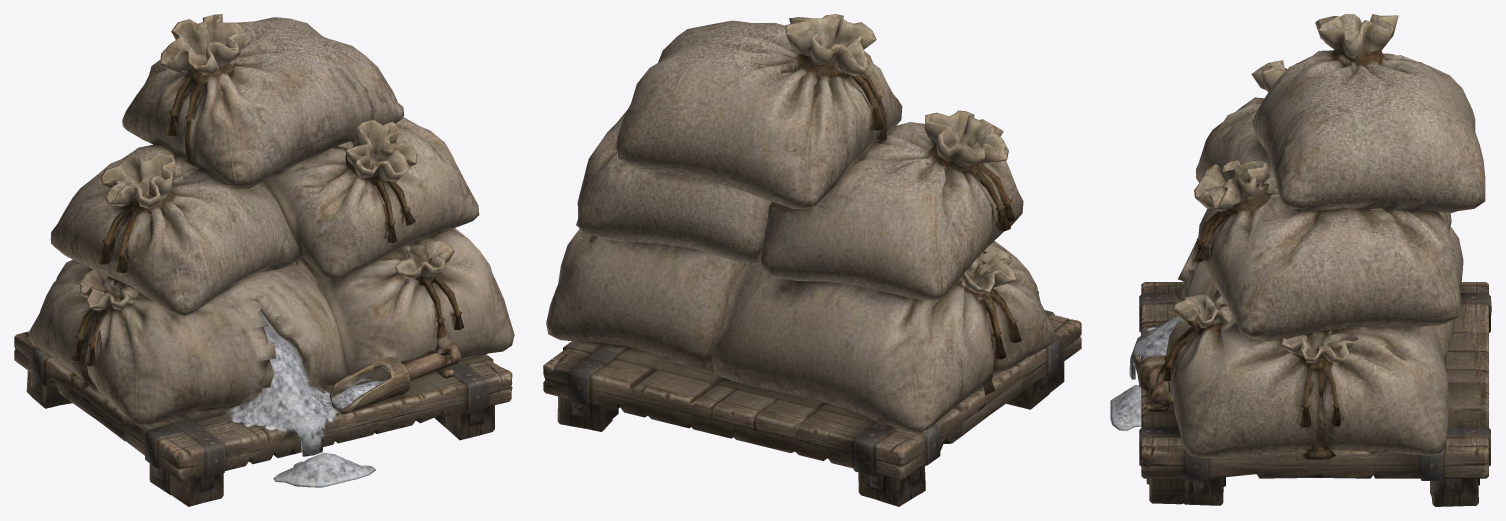
The model's file is kit_sf_salt_sacks.glb.
3 renders of one model, left to right at view 1: azimuth 30°, elevation 25°; view 2: azimuth 150°, elevation 25°; view 3: azimuth 270°, elevation 25°, orthographic. The views are drawn at different scales.
Visible parts, largest first — view 1: kit_sf_salt_sacks; view 2: kit_sf_salt_sacks; view 3: kit_sf_salt_sacks.
Part boxes in pixels (bbox=[...]): kit_sf_salt_sacks: bbox=[14, 14, 514, 506]; kit_sf_salt_sacks: bbox=[543, 14, 1081, 506]; kit_sf_salt_sacks: bbox=[1110, 14, 1491, 506].
Bounding box in the file's own units: 1.07 × 1 × 0.8747.
1 material, 1 textured.
